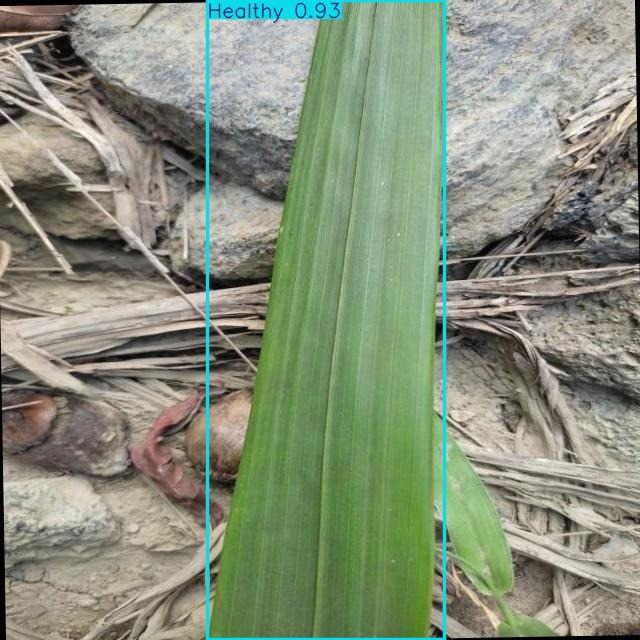Healthy: (207, 0, 444, 640)
